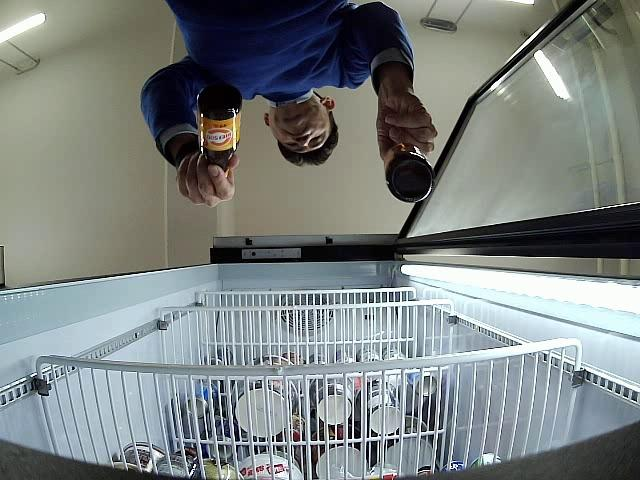00_hand: (376, 87, 438, 165), (178, 154, 238, 206)
17_vita500: (197, 83, 238, 171), (384, 146, 436, 204)
